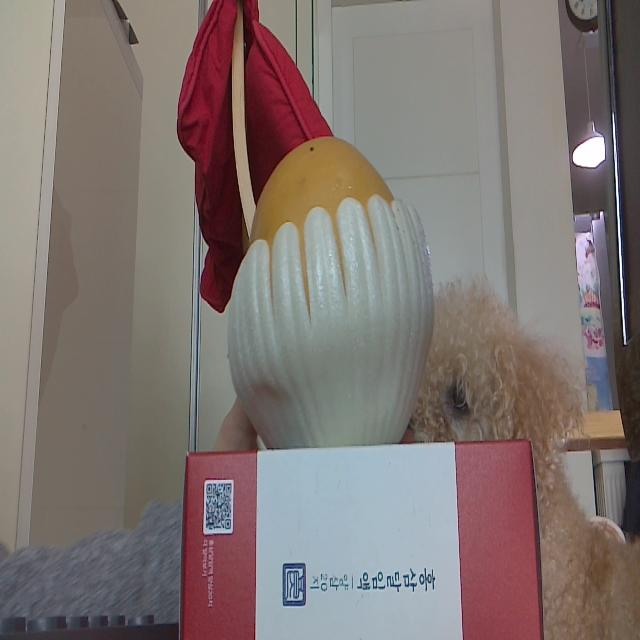pear: (250, 136, 432, 444)
